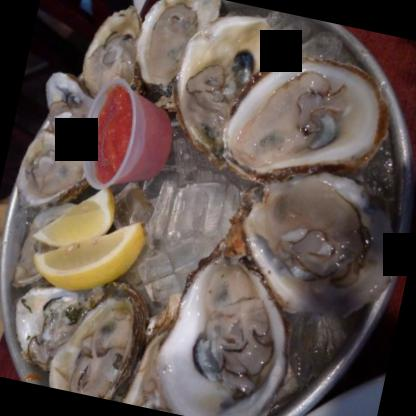lemon: (29, 204, 150, 303), (30, 178, 117, 254)
oyster: (222, 157, 412, 330), (221, 41, 400, 198), (150, 245, 303, 415), (161, 3, 285, 160), (44, 276, 156, 404), (5, 280, 106, 376), (127, 0, 223, 99), (11, 124, 90, 212), (80, 3, 149, 102)
